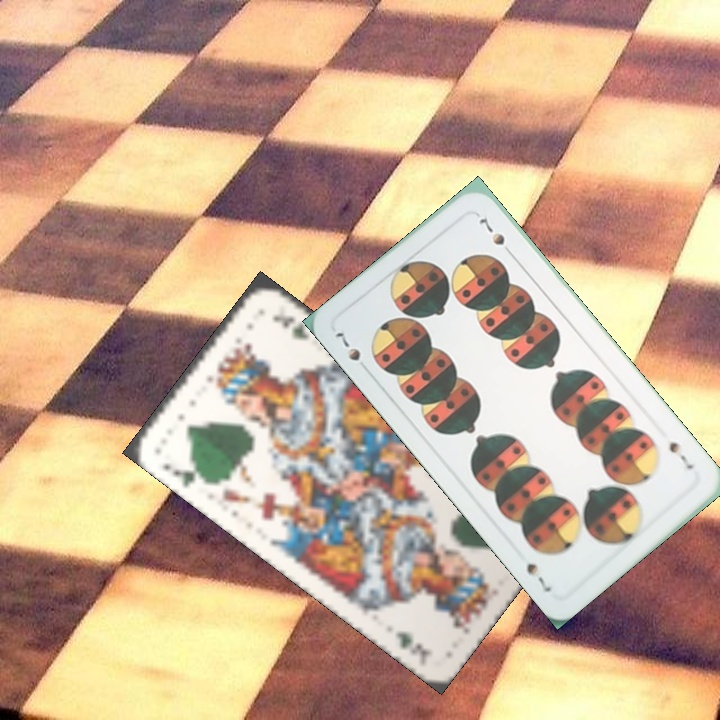GK: (158, 458, 207, 490)
S7: (331, 325, 363, 364), (665, 437, 696, 473)
